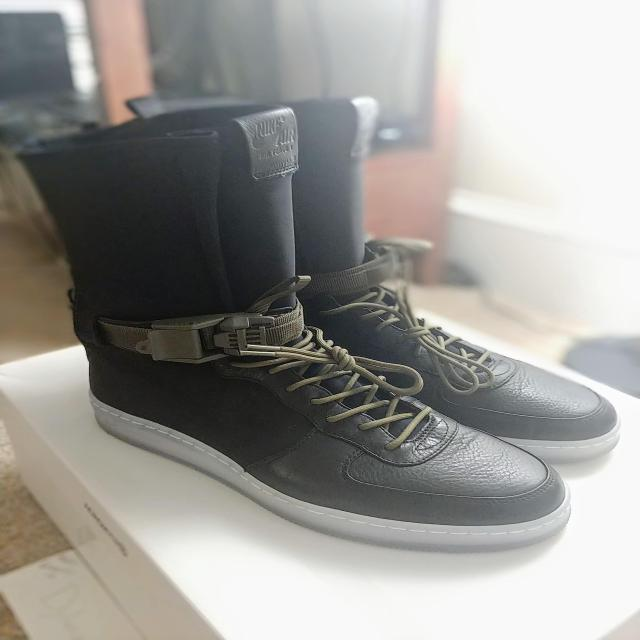shoe: (48, 108, 540, 614), (200, 100, 640, 465)
